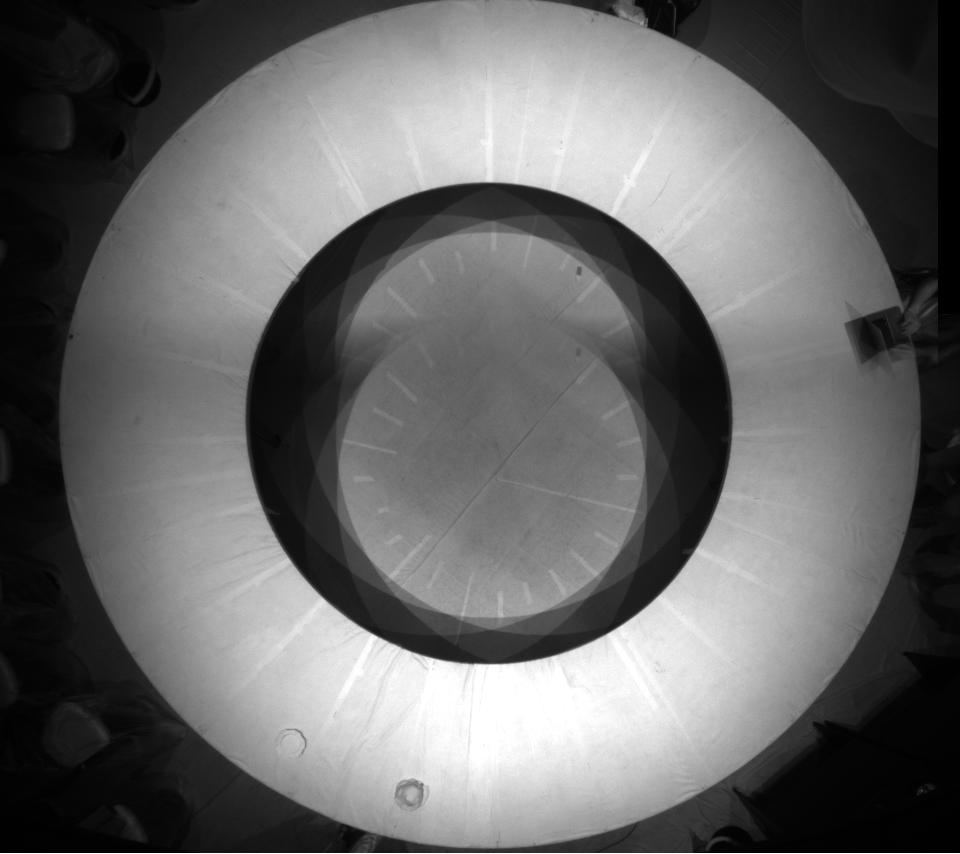Plate: (267, 724, 311, 762)
